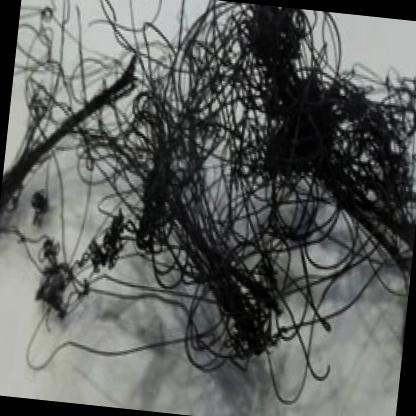fail: (9, 1, 416, 415)
